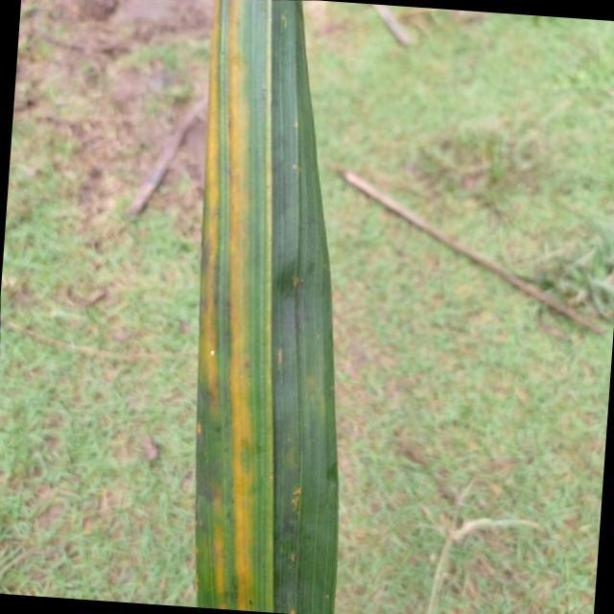Megnesium: (197, 0, 342, 614)
